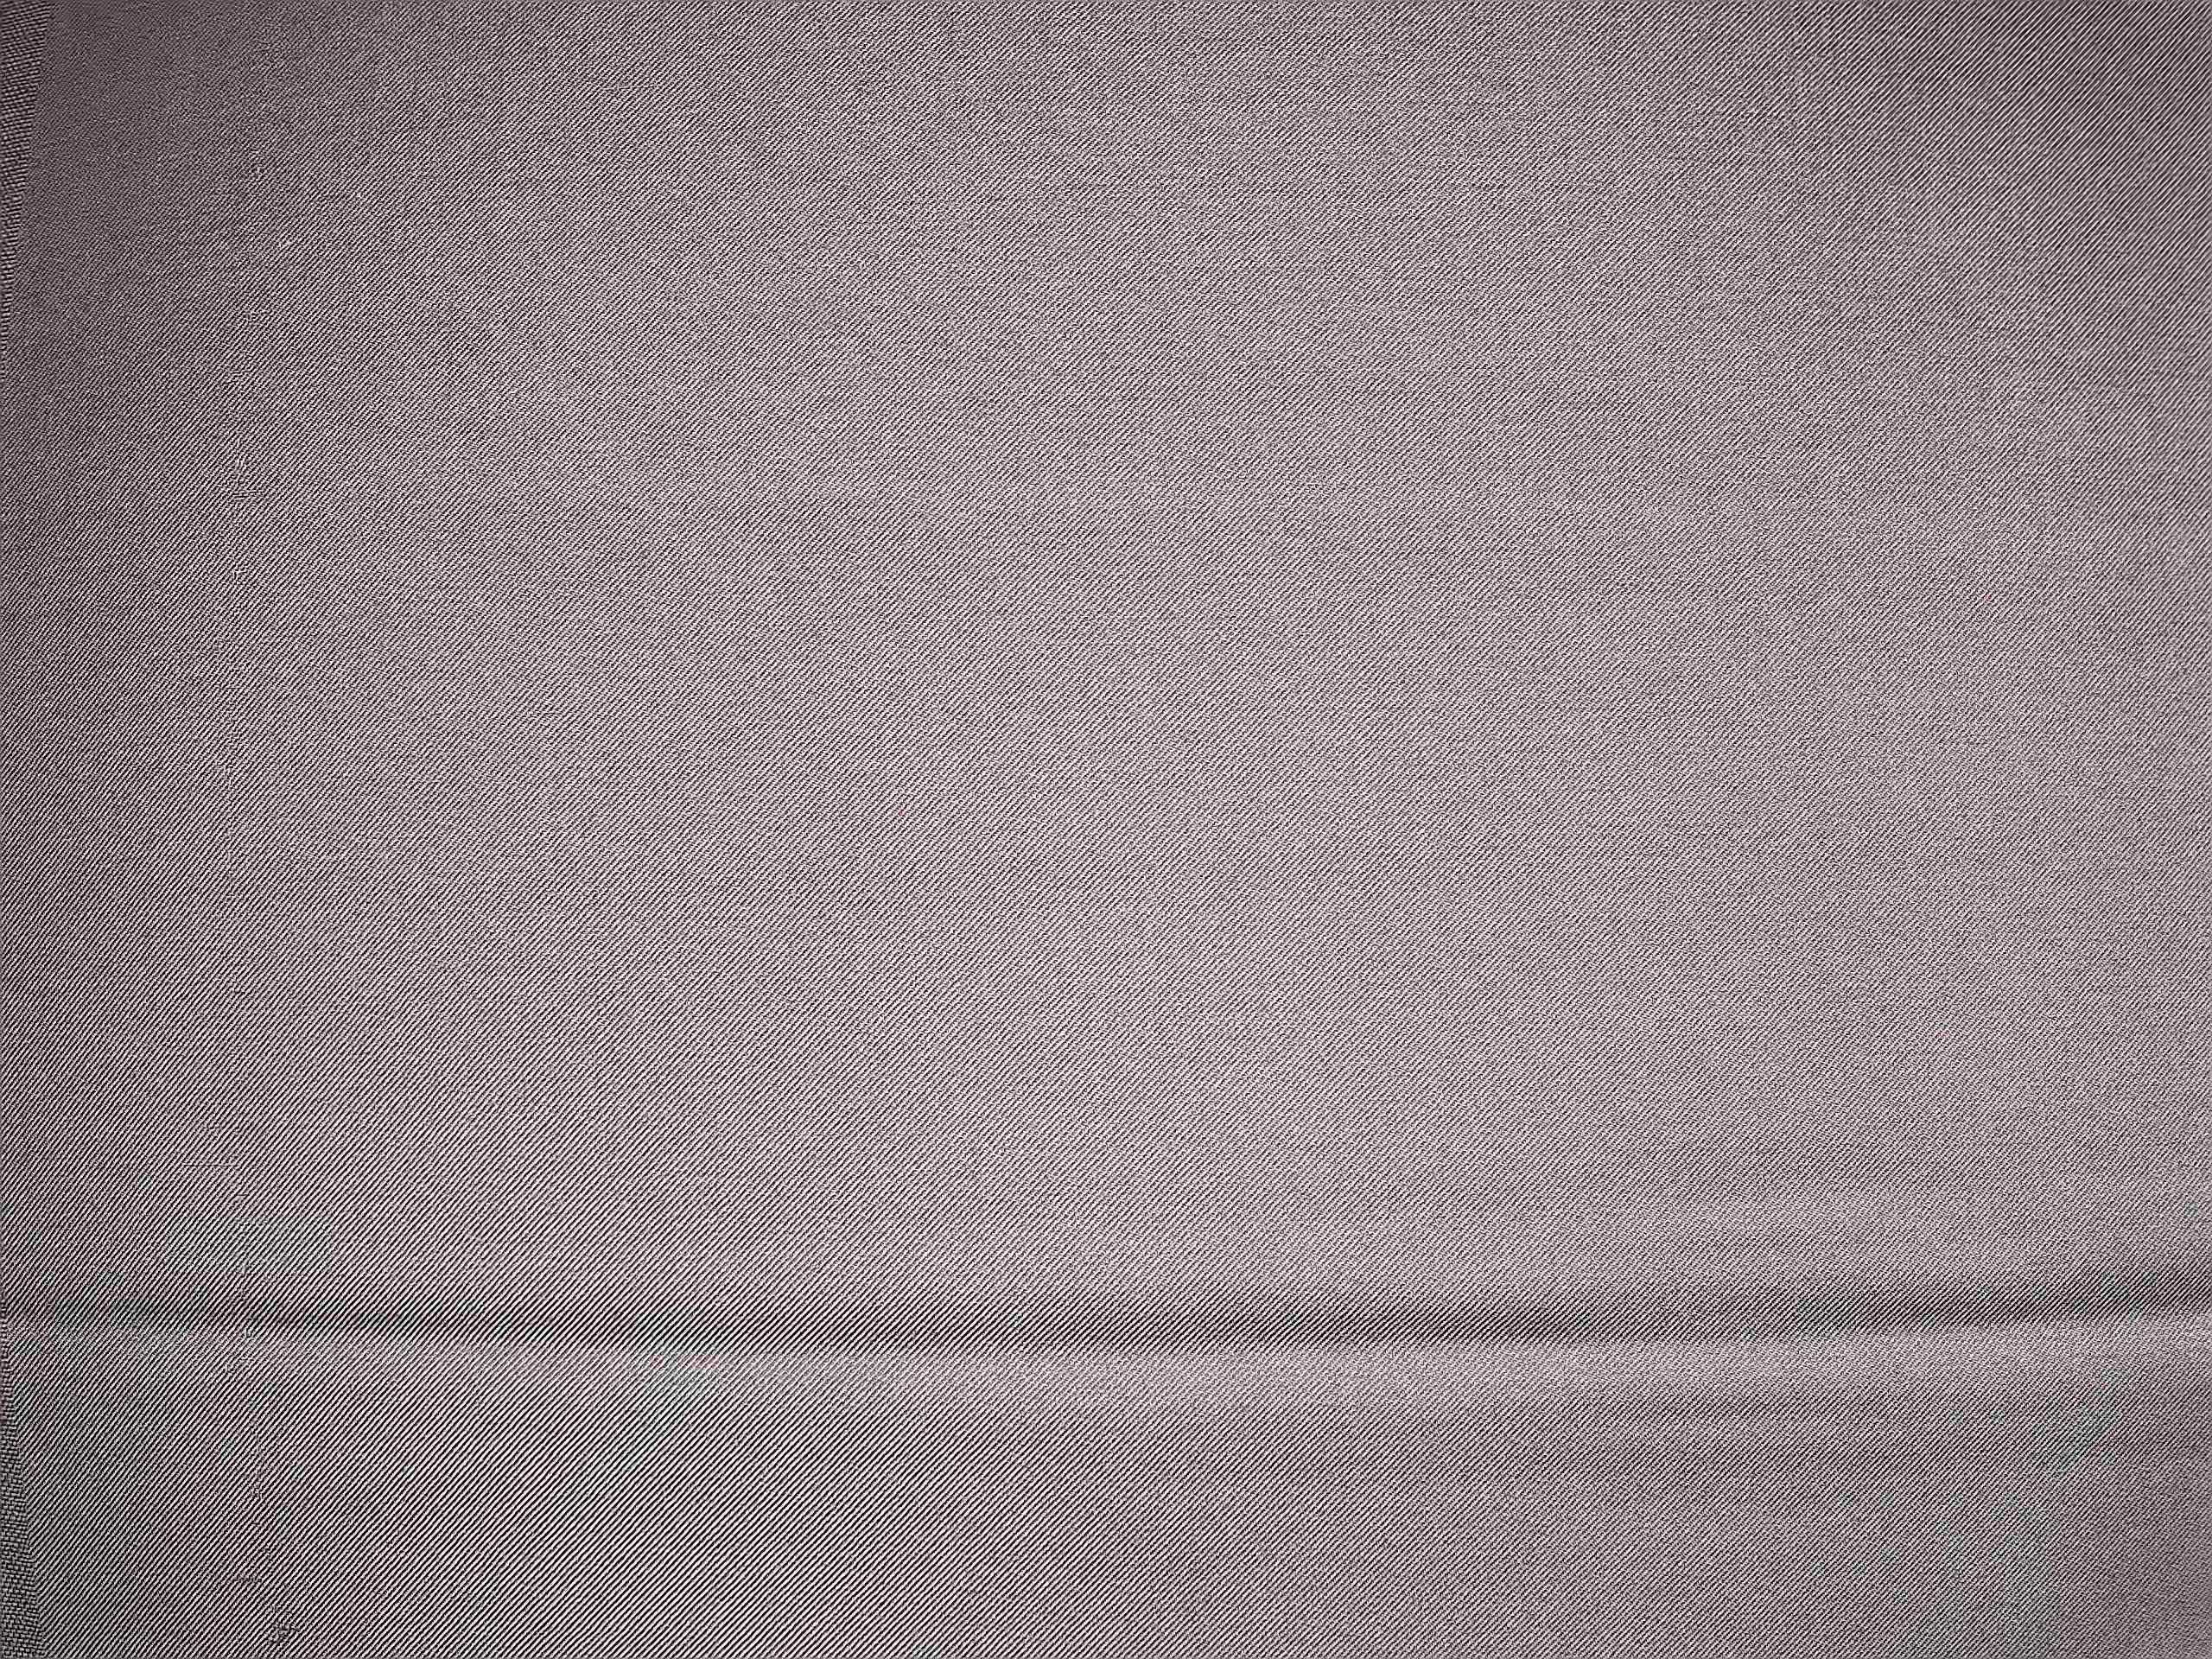jumps: (223, 1215, 310, 1647), (225, 38, 303, 303), (211, 742, 254, 1037), (207, 420, 277, 540)
